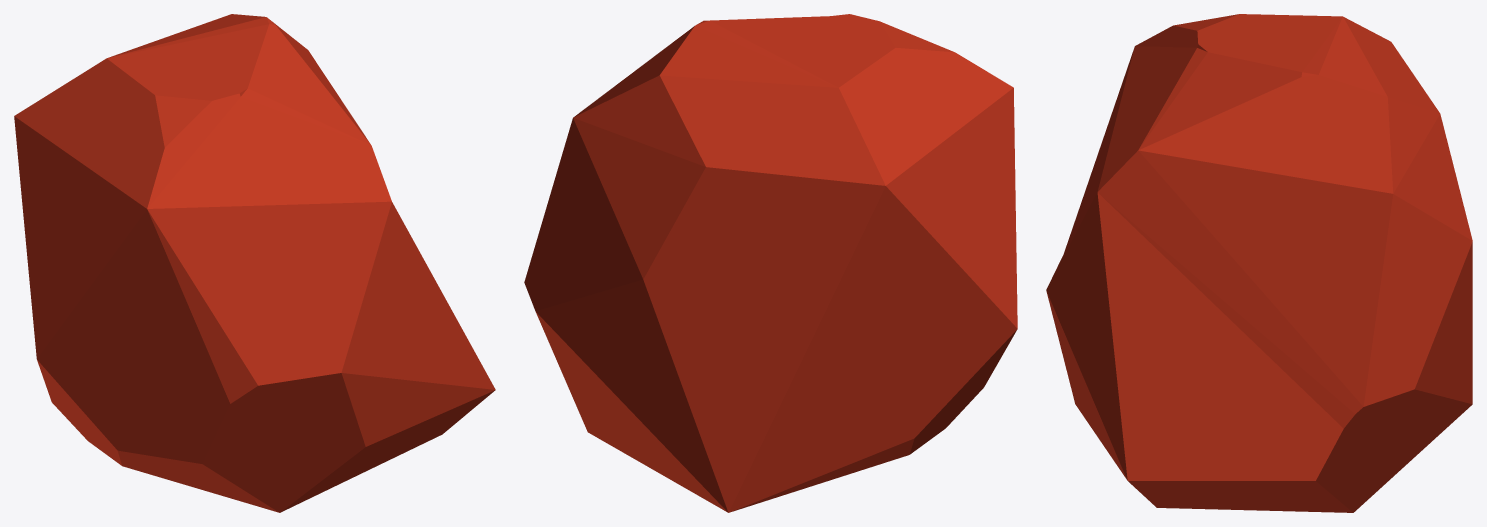
File: small_rock.glb
The picture shows the model from 3 angles, left to right: view 1: azimuth 30°, elevation 25°; view 2: azimuth 150°, elevation 25°; view 3: azimuth 270°, elevation 25°; orthographic projection. The views are drawn at different scales.
Parts seen in each view (by area): view 1: small_rock; view 2: small_rock; view 3: small_rock.
Part boxes in pixels (x1,y1,x2,y2): small_rock: (14,14,495,512); small_rock: (524,14,1017,512); small_rock: (1046,14,1472,512).
Bounding box in the file's own units: 0.9185 × 0.8637 × 0.8184.
